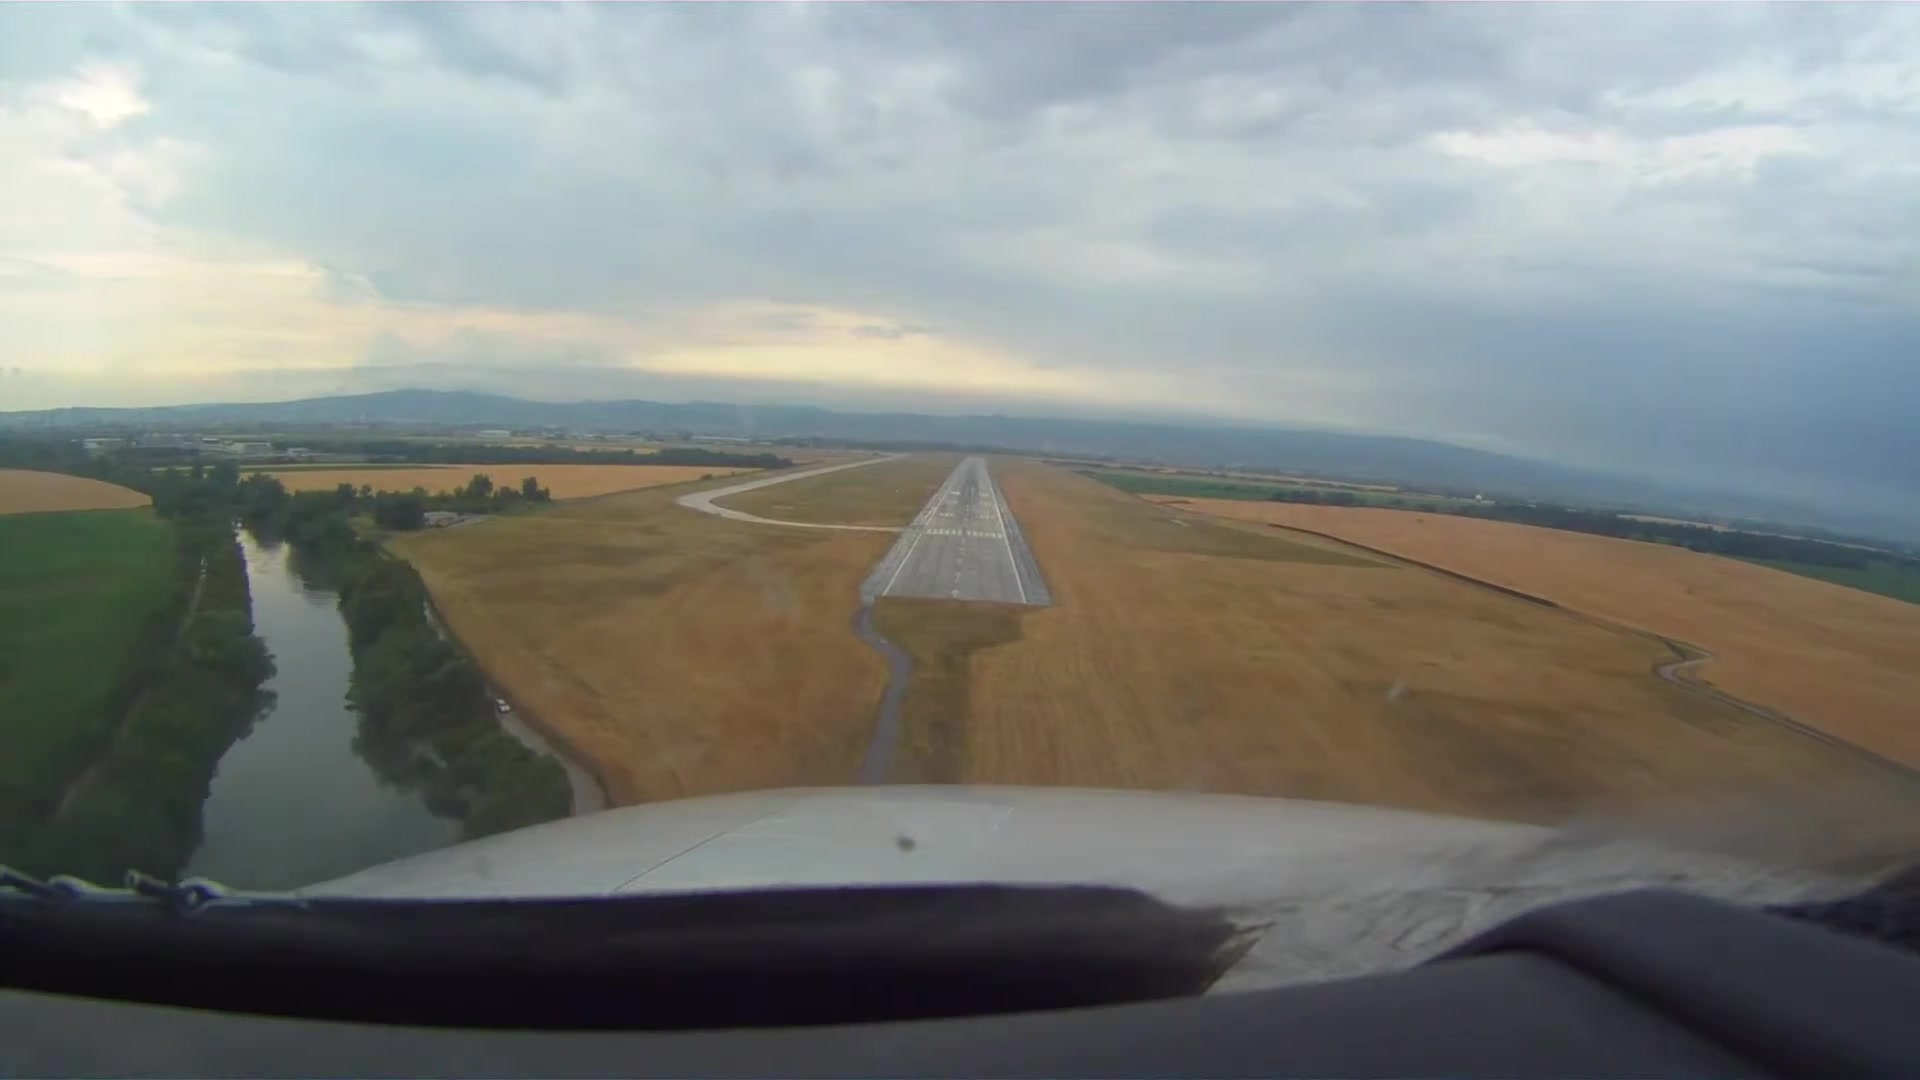entrance: (924, 525, 1007, 539)
runway: (862, 454, 1048, 608)
